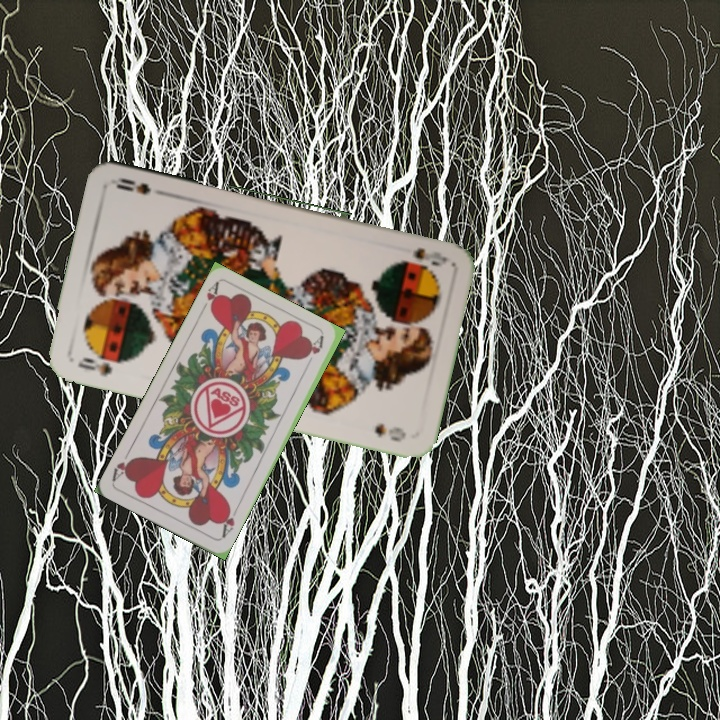HA: (196, 279, 222, 317), (217, 503, 237, 541)
SO: (74, 352, 126, 379), (410, 244, 450, 269)
